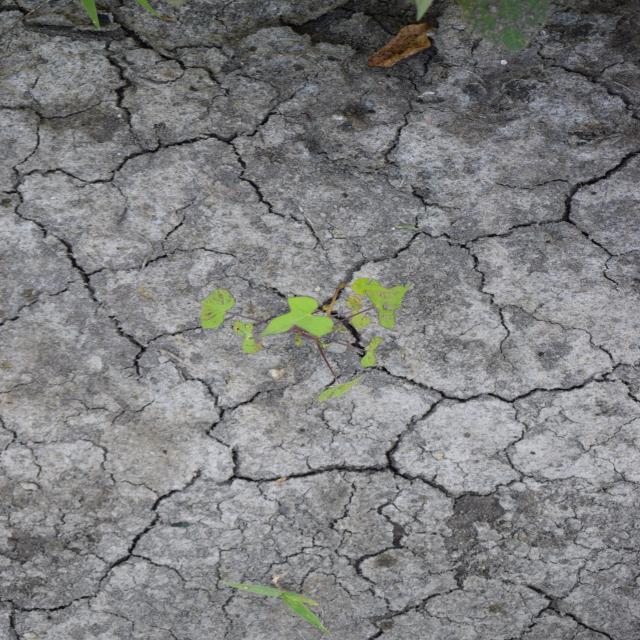MorningGlory: (197, 277, 415, 404)
